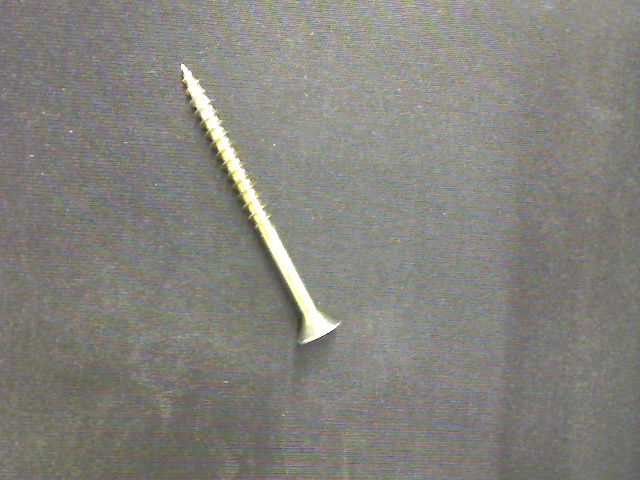screw1: (179, 61, 341, 345)
